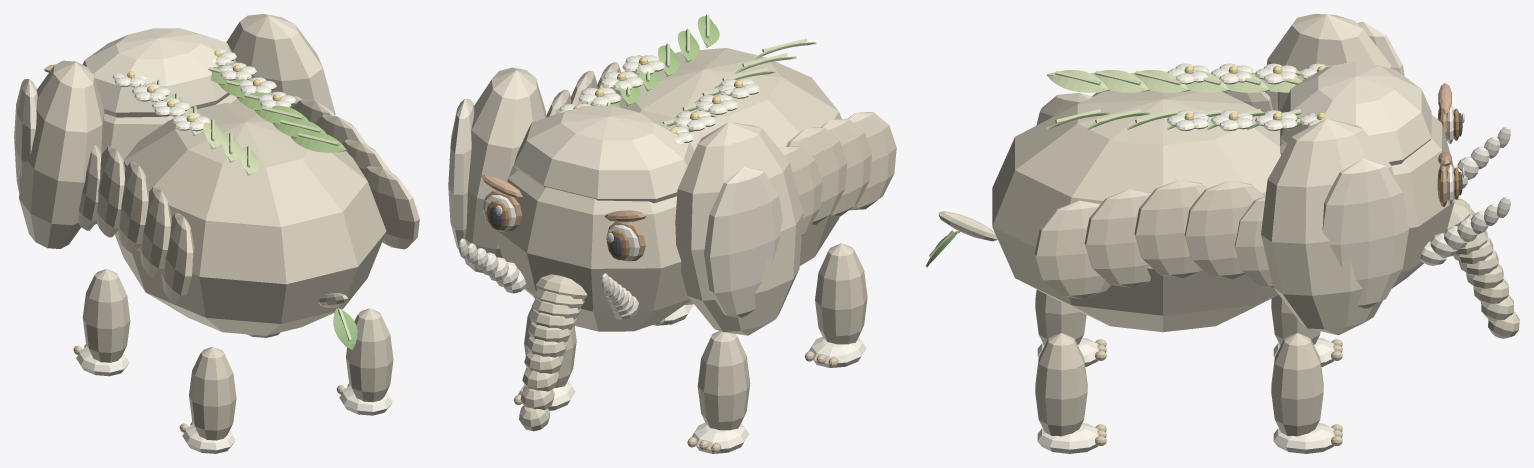
The model's file is RockElephant_A_S6.glb.
3 renders of one model, left to right at view 1: azimuth 30°, elevation 25°; view 2: azimuth 150°, elevation 25°; view 3: azimuth 270°, elevation 25°, orthographic. The views are drawn at different scales.
Parts seen in each view (by area): view 1: Body, LeftEar, Static_DBCDAA, RightEar, Static_C9B794, LeftBackLeg, LeftFrontLeg, Static_FAF3D7, RightBackLeg, Static_C1B190, Static_C5B492, Static_BDAE8E (+10 smaller); view 2: Static_C4B593, Static_DBCDAA, LeftEar, Body, LeftEar_E6D6B3, RightEar, LeftBackLeg, LeftFrontLeg, Static_FAF3D7, Static_C1B190, RightEar_E6D6B3, Static_C5B492 (+16 smaller); view 3: Body, RightEar, Static_DBCDAA, RightEar_E6D6B3, Static_C4B593, Static_C9B794, Static_BDAE8E, Static_C1B190, LeftEar, Static_C5B492, RightFrontLeg, RightBackLeg (+12 smaller).
Part boxes in pixels (<box>): Body: <box>115,103,386,335</box>; LeftEar: <box>19,60,104,248</box>; Static_DBCDAA: <box>82,28,236,117</box>; RightEar: <box>226,14,335,115</box>; Static_C9B794: <box>161,166,419,304</box>; LeftBackLeg: <box>189,346,236,440</box>; LeftFrontLeg: <box>82,269,130,362</box>; Static_FAF3D7: <box>112,48,296,131</box>; RightBackLeg: <box>346,308,393,402</box>; Static_C1B190: <box>118,114,367,252</box>; Static_C5B492: <box>139,139,391,277</box>; Static_BDAE8E: <box>97,99,334,237</box>; Static_C4B593: <box>493,165,690,431</box>; Static_DBCDAA: <box>514,106,694,203</box>; LeftEar: <box>675,122,803,335</box>; Body: <box>591,48,841,304</box>; LeftEar_E6D6B3: <box>704,167,782,317</box>; RightEar: <box>464,67,546,272</box>; LeftBackLeg: <box>815,243,867,344</box>; LeftFrontLeg: <box>697,331,750,430</box>; Static_FAF3D7: <box>557,55,760,144</box>; Static_C1B190: <box>571,70,847,224</box>; RightEar_E6D6B3: <box>448,99,474,249</box>; Static_C5B492: <box>597,62,871,216</box>; Body: <box>992,90,1280,332</box>; RightEar: <box>1261,118,1394,335</box>; Static_DBCDAA: <box>1280,61,1431,165</box>; RightEar_E6D6B3: <box>1322,158,1408,308</box>; Static_C4B593: <box>1280,114,1519,338</box>; Static_C9B794: <box>1034,92,1110,299</box>; Static_BDAE8E: <box>1184,90,1272,279</box>; Static_C1B190: <box>1134,180,1206,278</box>; LeftEar: <box>1267,14,1392,111</box>; Static_C5B492: <box>1084,92,1151,287</box>; RightFrontLeg: <box>1271,333,1323,436</box>; RightBackLeg: <box>1035,333,1087,436</box>.
Size of the model in its own units: 17.23 by 17.07 by 26.99.
